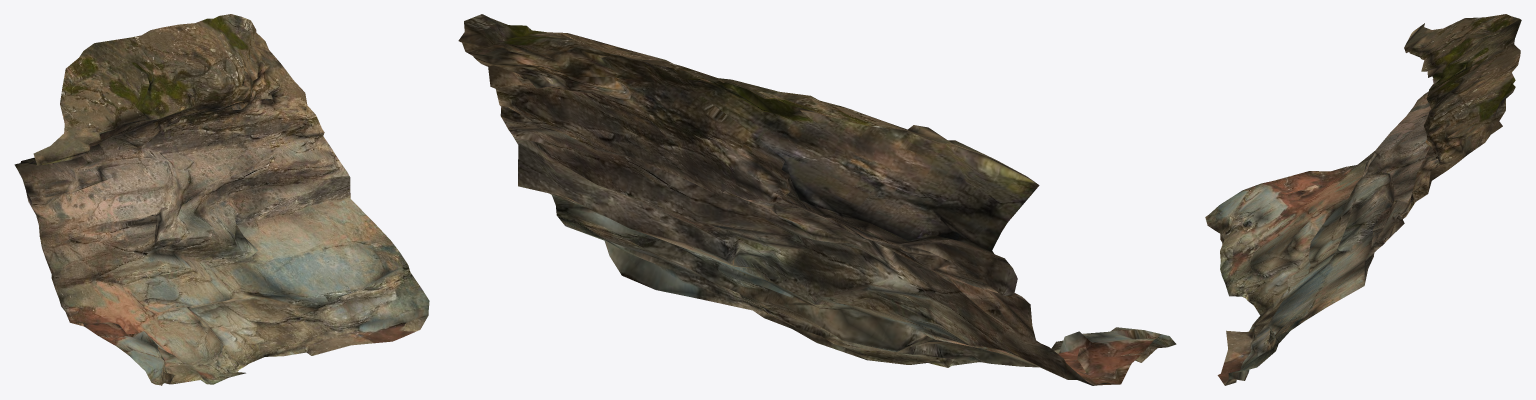
The model's file is rock_face_01.glb.
3 views of the same model, side by side, from view 1: azimuth 30°, elevation 25°; view 2: azimuth 150°, elevation 25°; view 3: azimuth 270°, elevation 25° (orthographic). The views are drawn at different scales.
Visible parts, largest first — view 1: rock_face_01; view 2: rock_face_01; view 3: rock_face_01.
Boxes of the visible parts, left/top/right/bottom form: rock_face_01: left=14, top=14, right=429, bottom=385; rock_face_01: left=458, top=14, right=1176, bottom=385; rock_face_01: left=1205, top=14, right=1521, bottom=385.
Bounding box in the file's own units: 4.94 × 3.56 × 3.82.
Materials: 1 (1 with a texture image).
